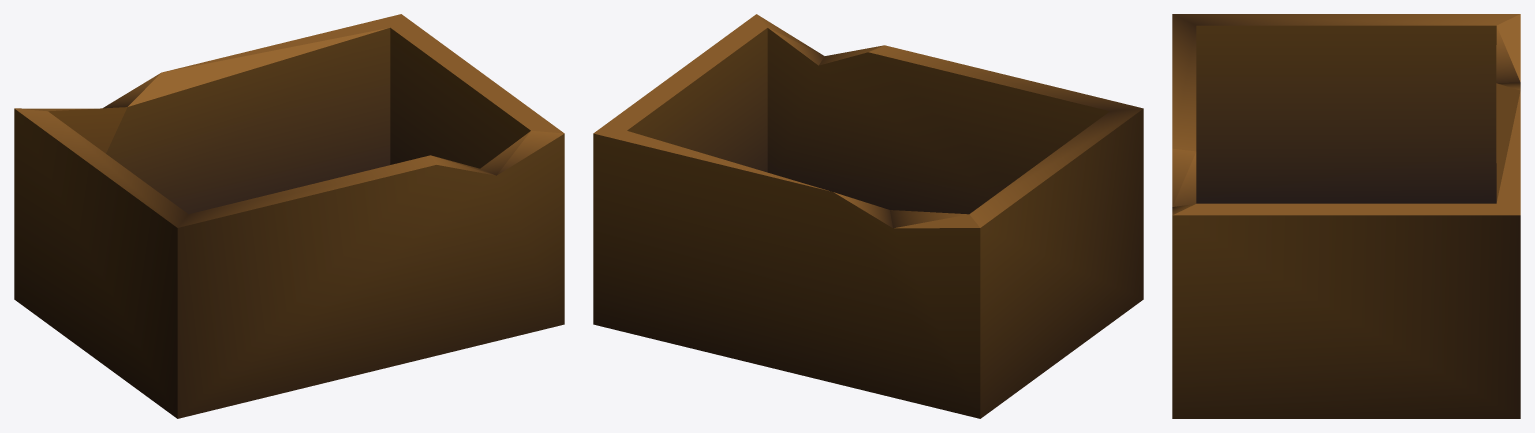
File: Mixed_Box_open_01.fbx
The picture shows the model from 3 angles, left to right: view 1: azimuth 30°, elevation 25°; view 2: azimuth 150°, elevation 25°; view 3: azimuth 270°, elevation 25°; orthographic projection. The views are drawn at different scales.
Parts seen in each view (by area): view 1: Box_open_01.001; view 2: Box_open_01.001; view 3: Box_open_01.001.
Boxes of the visible parts, <box> form: Box_open_01.001: <box>14,14,564,418</box>; Box_open_01.001: <box>593,14,1143,418</box>; Box_open_01.001: <box>1172,14,1520,418</box>.
Size of the model in its own units: 176 by 83.06 by 129.
